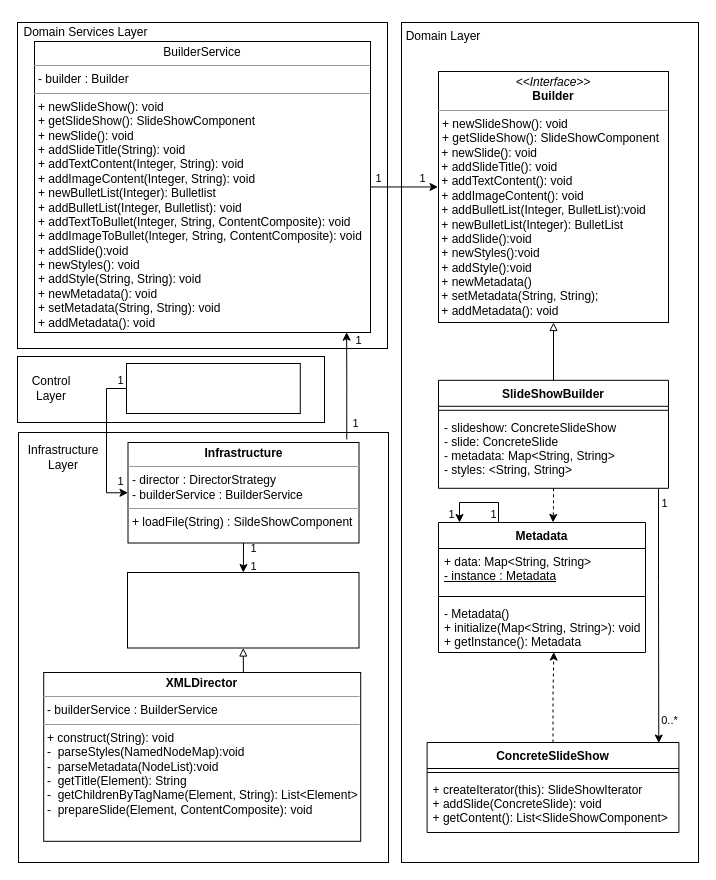
Some shapes in this 716 by 880 pixel diagram are drawn without their labels. Each missing label, with the centre of its shape:
"<<Interface>> DirectorStrategy + construct(BulderService, String): void" goes at [242,610].
"Controller" goes at [213,388].
